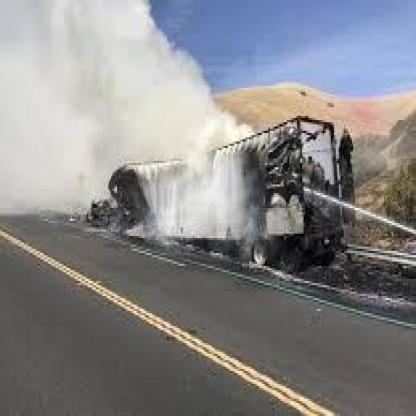smoke: (2, 1, 240, 218)
